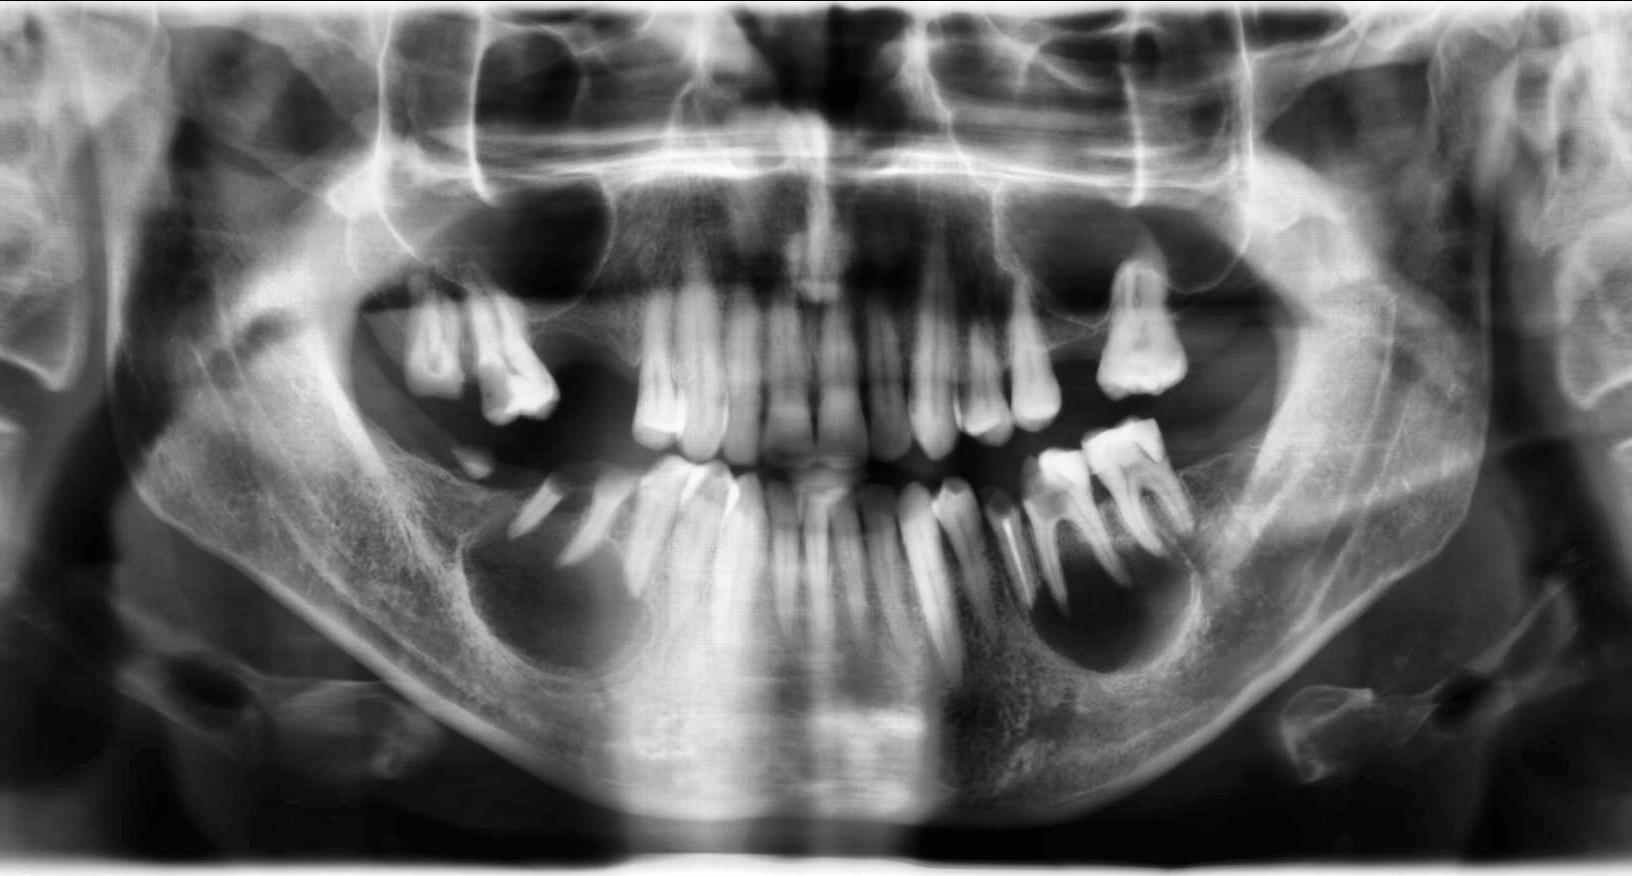radikuler: (463, 511, 654, 683), (1027, 535, 1203, 674)
